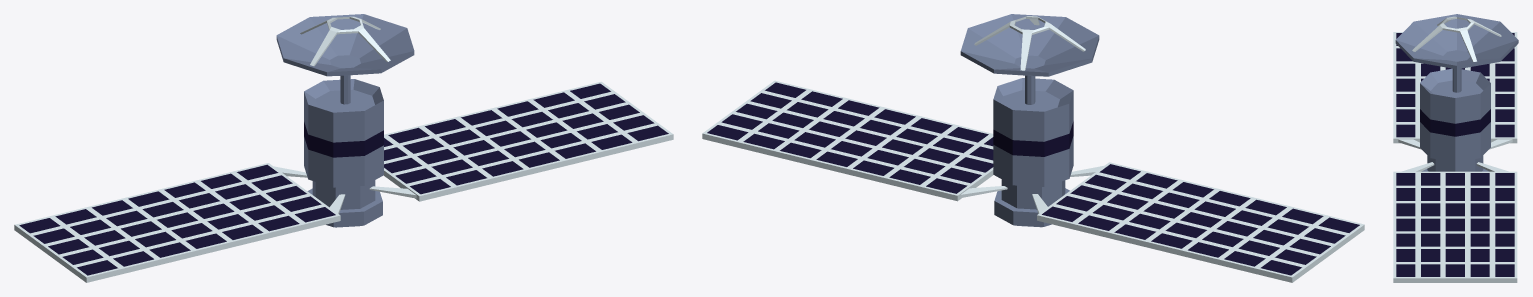
Rendered from Satalite.fbx.
The picture shows the model from 3 angles, left to right: view 1: azimuth 30°, elevation 25°; view 2: azimuth 150°, elevation 25°; view 3: azimuth 270°, elevation 25°; orthographic projection. The views are drawn at different scales.
Parts seen in each view (by area): view 1: Cube, Cylinder; view 2: Cube, Cylinder; view 3: Cube, Cylinder.
Boxes of the visible parts, x1,y1,x2,y2 form: Cube: [14, 81, 673, 282]; Cylinder: [276, 14, 414, 227]; Cube: [702, 80, 1364, 282]; Cylinder: [960, 14, 1099, 227]; Cube: [1393, 32, 1517, 282]; Cylinder: [1395, 14, 1518, 171].
Size of the model in its own units: 1640 by 509 by 352.
